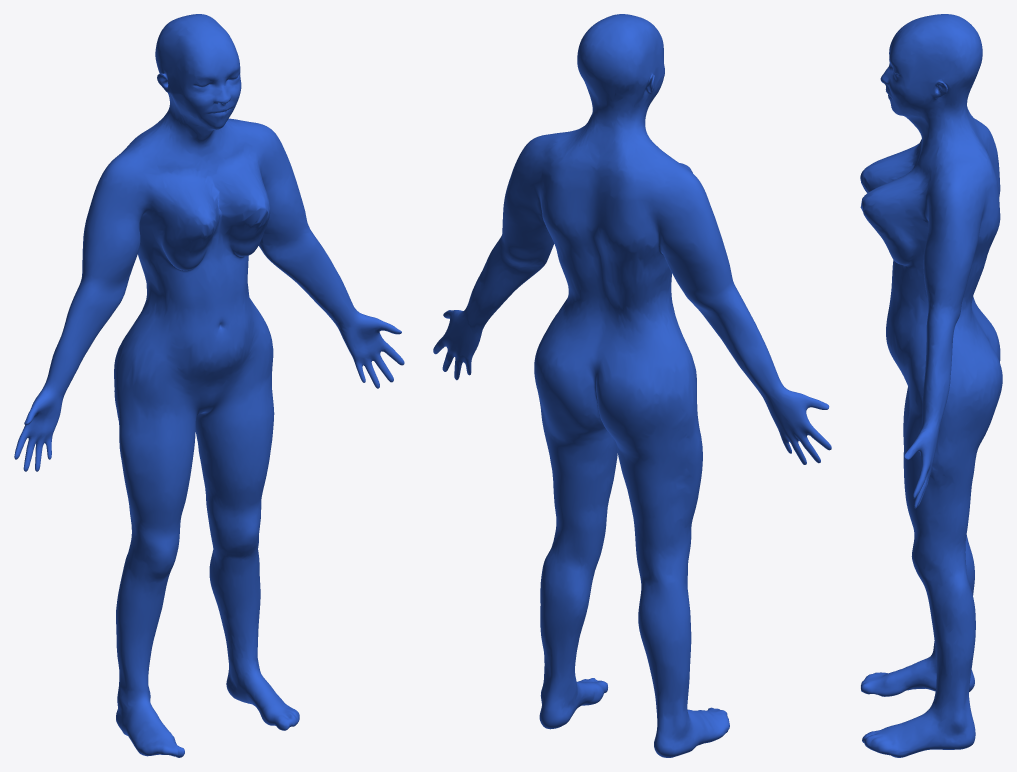
Rendered from skin.glb.
The picture shows the model from 3 angles, left to right: view 1: azimuth 30°, elevation 25°; view 2: azimuth 150°, elevation 25°; view 3: azimuth 270°, elevation 25°; orthographic projection. The views are drawn at different scales.
Parts seen in each view (by area): view 1: VH_F_skin; view 2: VH_F_skin; view 3: VH_F_skin.
Boxes of the visible parts, x1,y1,x2,y2 form: VH_F_skin: [14, 14, 404, 757]; VH_F_skin: [433, 14, 831, 757]; VH_F_skin: [860, 14, 1002, 757].
Bounding box in the file's own units: 0.967 × 1.67 × 0.3045.
